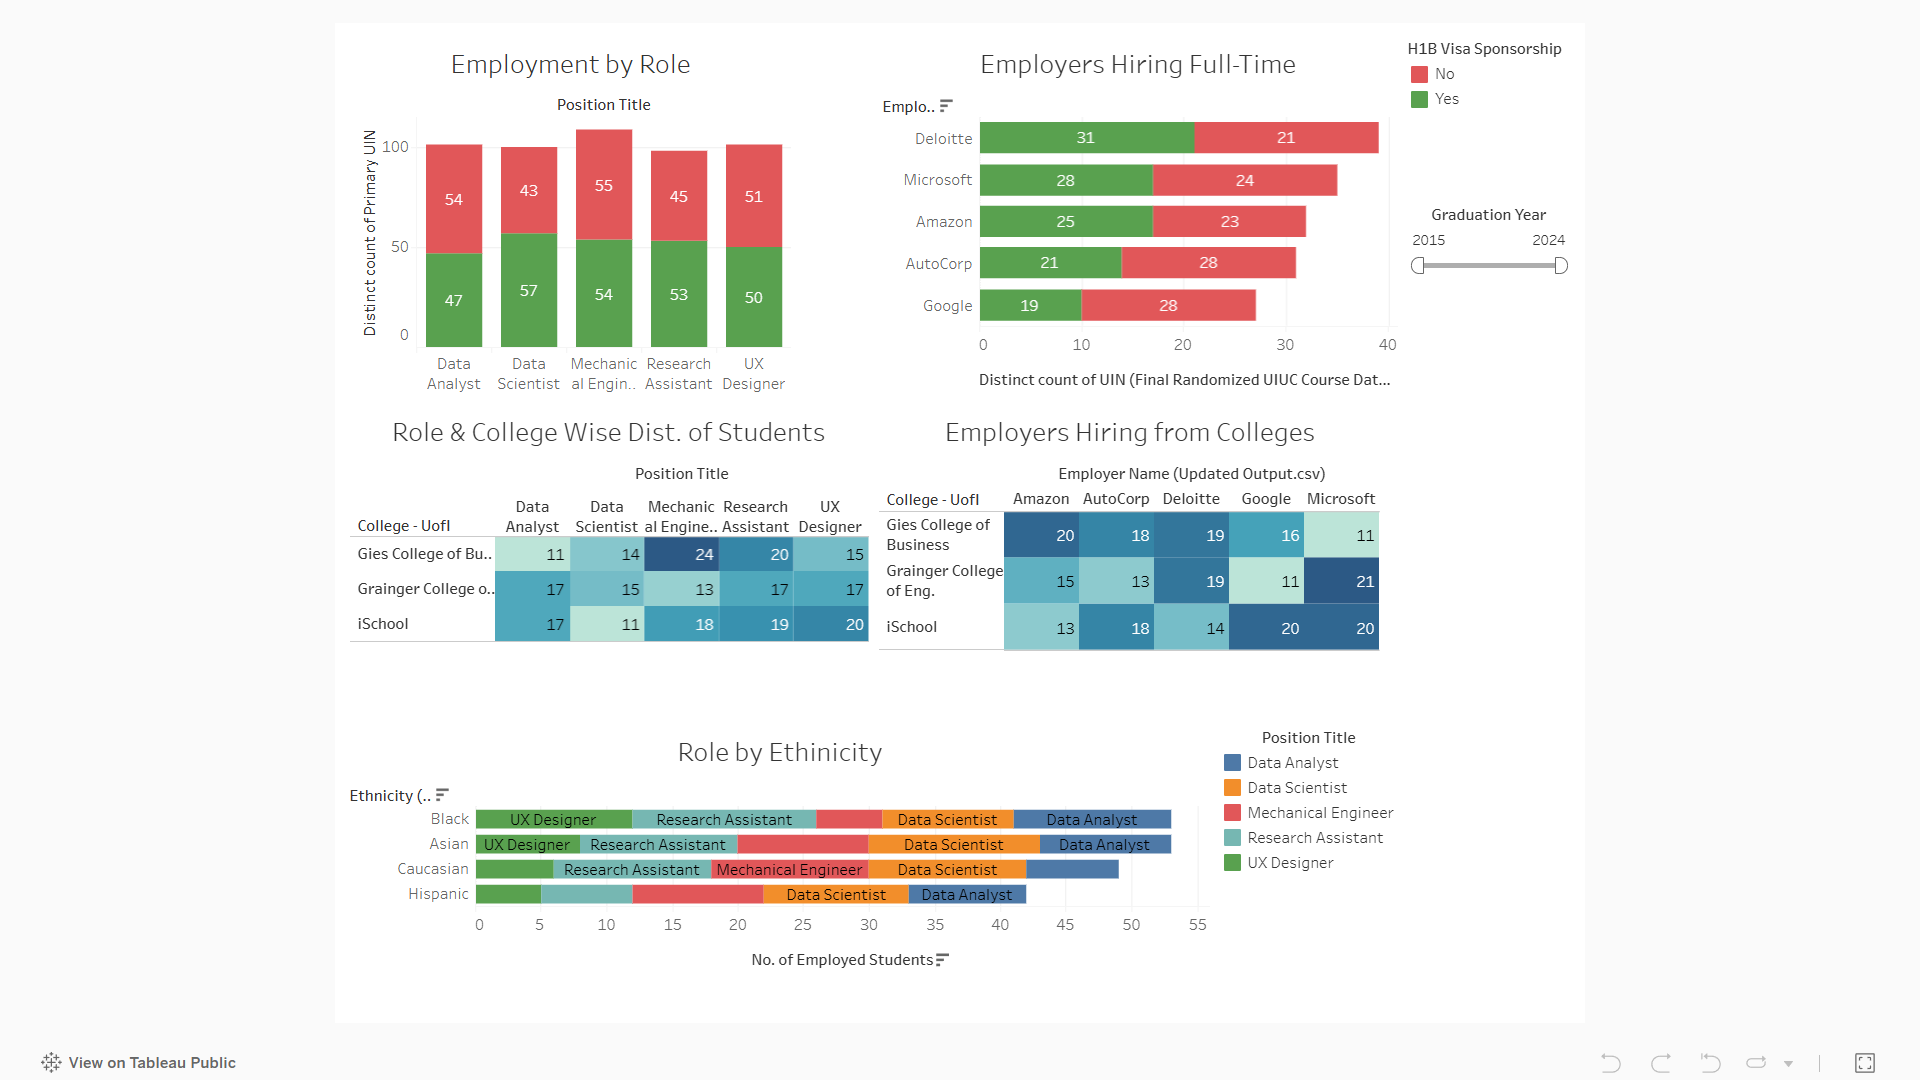

The dashboard page shown, as its layout file describes it:
{"tool":"tableau","page":{"name":"Employers, Role & College","canvas":[1000,800],"ordinal":1},"visuals":[{"type":"worksheet","title":"Employment by Role","mark":"Automatic","rows":["UIN (Updated_Output.csv)"],"cols":["Position Title (Updated_Output.csv)"],"box":[8,8,423,295]},{"type":"worksheet","title":"Employers Hiring Full-Time","mark":"Automatic","rows":["Employer Name (Updated_Output.csv)"],"cols":["UIN (Final_Randomized_UIUC_Course_Data_New.csv)"],"box":[431,8,423,295]},{"type":"legend","title":"Employment by Role","param":"[federated.1hmfvr802u9zmr16zatlf0mn0tlc].[none:H1B Visa Sponsorship:nk]","box":[854,8,138,132]},{"type":"filter","title":"Employment by Role","param":"[federated.1hmfvr802u9zmr16zatlf0mn0tlc].[none:Graduation Year (Updated_Output.c","box":[854,140,138,69]},{"type":"worksheet","title":"Role & College Wise Dist. of Students","mark":"Square","rows":["College (Updated_Output.csv)"],"cols":["Position Title (Updated_Output.csv)"],"box":[8,303,423,256]},{"type":"worksheet","title":"Employers Hiring from Colleges","mark":"Square","rows":["College (Updated_Output.csv)"],"cols":["Employer Name (Updated_Output.csv)"],"box":[431,303,423,256]},{"type":"worksheet","title":"Role by Ethinicity","mark":"Automatic","rows":["Ethnicity (Updated_Output.csv)"],"cols":["UIN (Updated_Output.csv)"],"box":[8,559,695.9,233]},{"type":"legend","title":"Role by Ethinicity","param":"[federated.1hmfvr802u9zmr16zatlf0mn0tlc].[none:Position Title (Updated_Output.cs","box":[703.9,559,150.1,233]}]}

Visuals, with their boxes on the page's 1000x800 design canvas (x1, y1, x2, y2). These are canvas units, not pixel positions in the 1920x1080 screenshot, which may show the page scaled, cropped or inside an application window:
"Employment by Role" worksheet: [8, 8, 431, 303]
"Employers Hiring Full-Time" worksheet: [431, 8, 854, 303]
"Employment by Role" legend: [854, 8, 992, 140]
"Employment by Role" filter: [854, 140, 992, 209]
"Role & College Wise Dist. of Students" worksheet (Square marks): [8, 303, 431, 559]
"Employers Hiring from Colleges" worksheet (Square marks): [431, 303, 854, 559]
"Role by Ethinicity" worksheet: [8, 559, 704, 792]
"Role by Ethinicity" legend: [704, 559, 854, 792]
